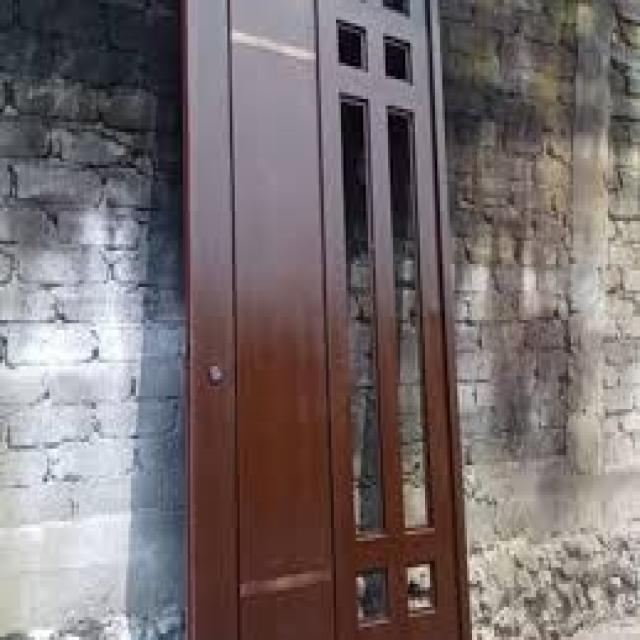door: (183, 0, 472, 640)
